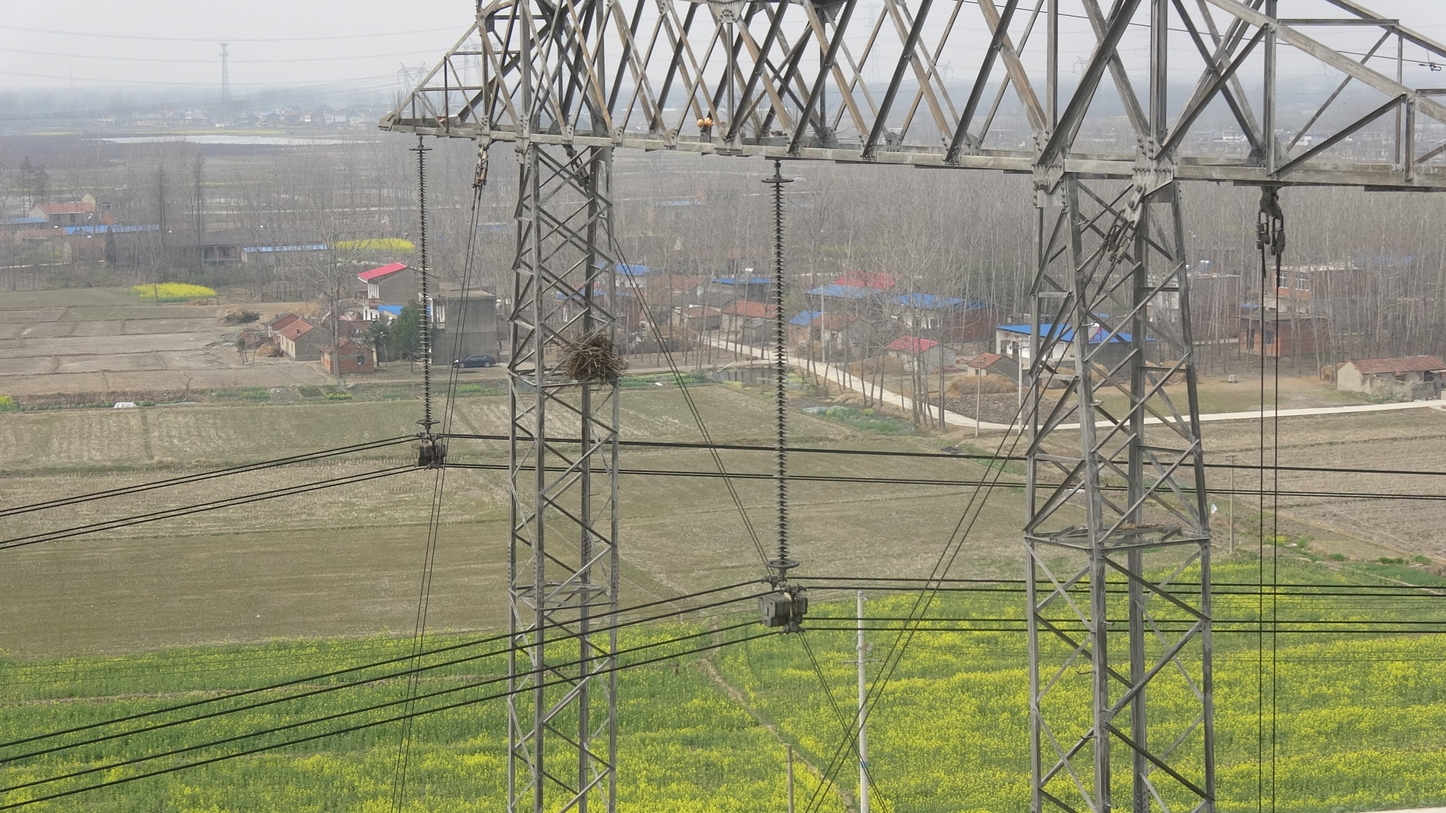insulator: (767, 183, 795, 562), (413, 150, 436, 420)
